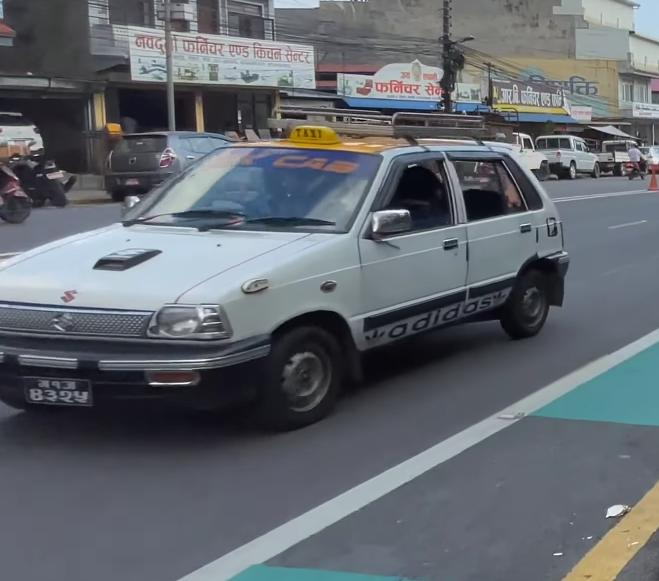car: (101, 127, 238, 198)
taxi: (0, 118, 576, 423)
